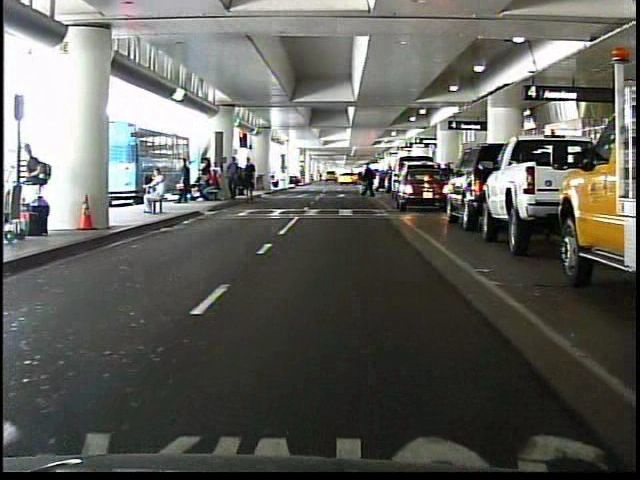person: (137, 167, 169, 218), (174, 156, 193, 208), (360, 159, 380, 203), (355, 160, 371, 197)
